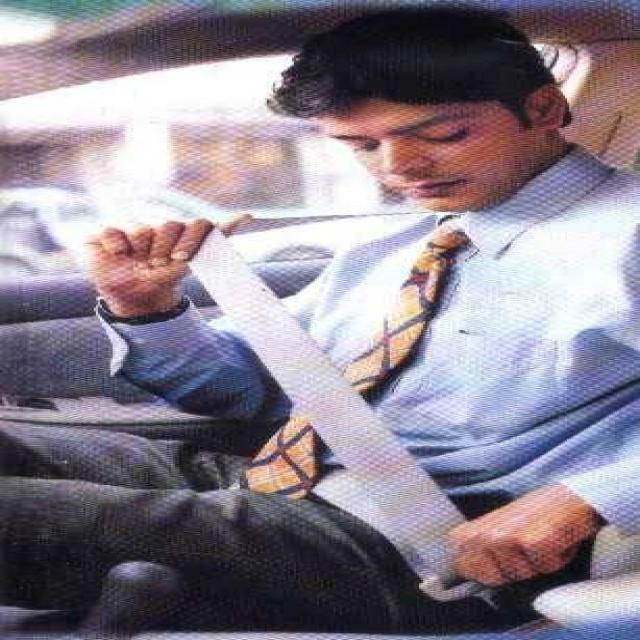seatbelt: (171, 232, 517, 594)
